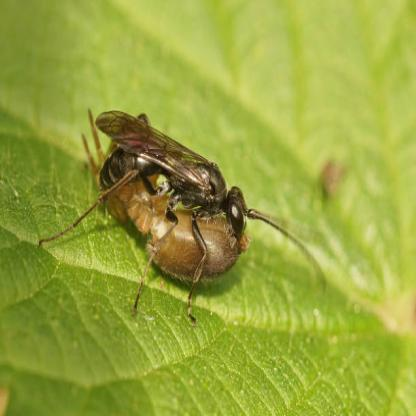sawfly: (37, 82, 332, 343)
